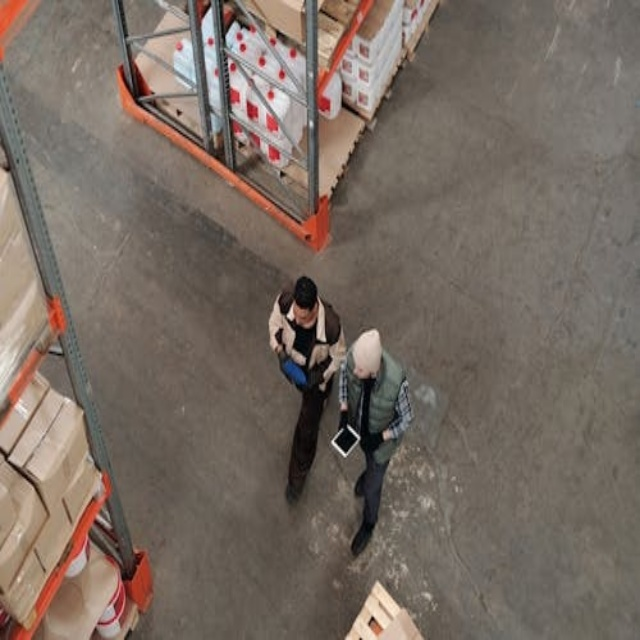Guantes: (282, 360, 307, 388), (365, 430, 384, 453)
Sin_guantes: (339, 408, 349, 431), (318, 374, 329, 393)
